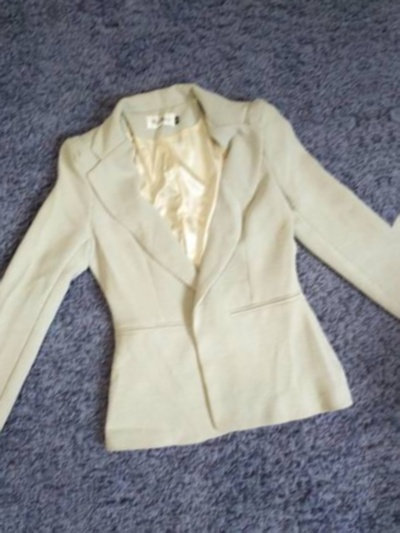Blazer: (0, 45, 400, 496), (366, 0, 400, 423), (0, 118, 0, 533)
